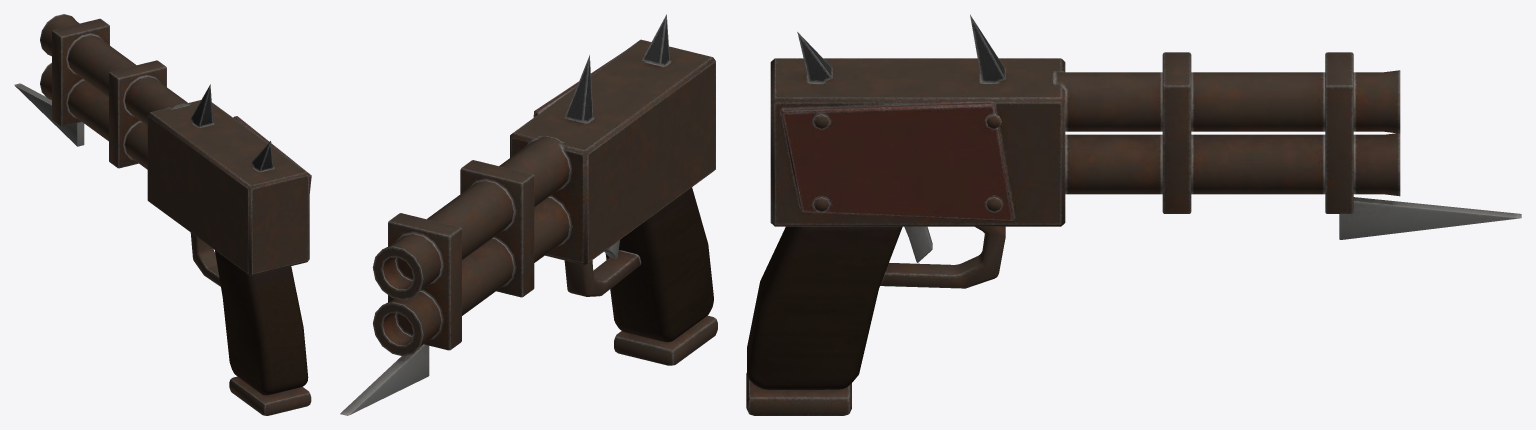
The model's file is pighcib_pistol.glb.
3 renders of one model, left to right at view 1: azimuth 30°, elevation 25°; view 2: azimuth 150°, elevation 25°; view 3: azimuth 270°, elevation 25°, orthographic. The views are drawn at different scales.
Parts seen in each view (by area): view 1: pighcib_pistol; view 2: pighcib_pistol; view 3: pighcib_pistol.
Boxes of the visible parts, x1,y1,x2,y2 form: pighcib_pistol: [14, 14, 311, 415]; pighcib_pistol: [340, 14, 717, 415]; pighcib_pistol: [746, 14, 1521, 415].
Size of the model in its own units: 0.0562 by 0.2108 by 0.3817.
Materials: 1 (1 with a texture image).
